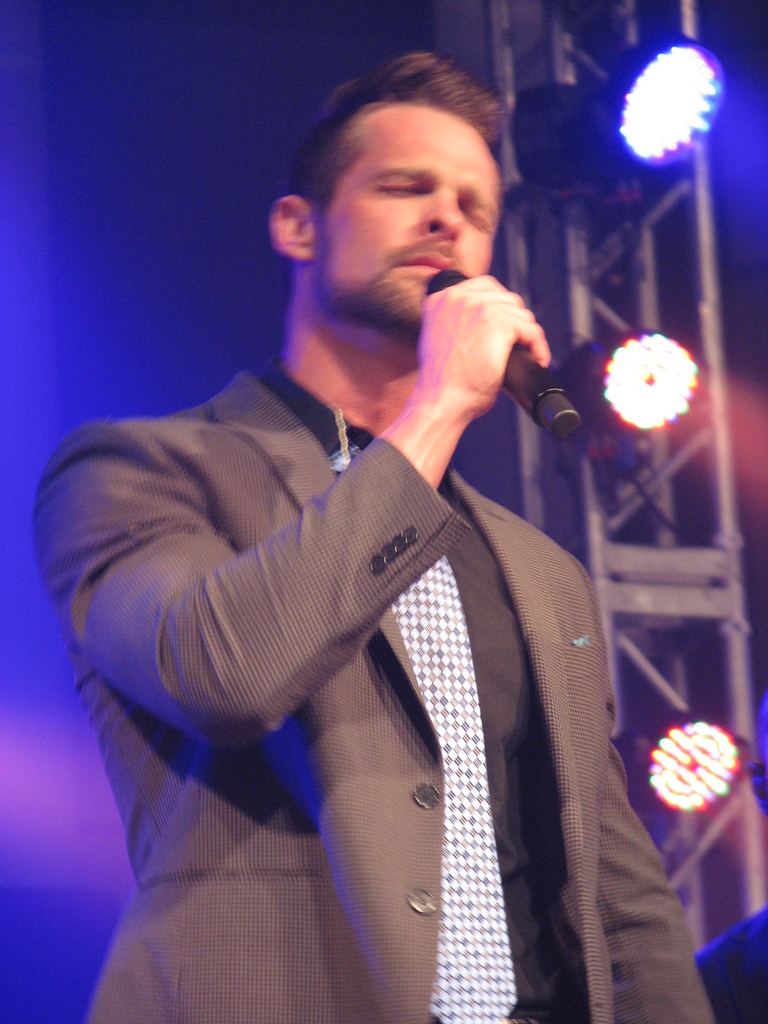Human_hand: (400, 273, 562, 452)
